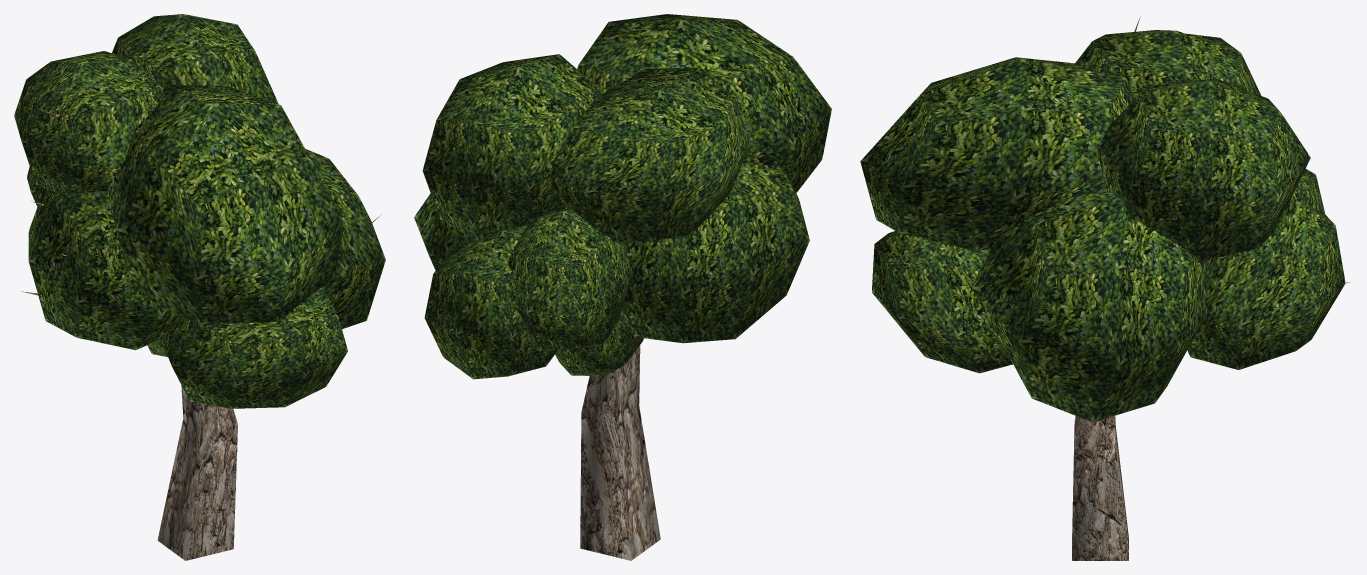
Rendered from Low-poly-tree-4(1).glb.
3 renders of one model, left to right at view 1: azimuth 30°, elevation 25°; view 2: azimuth 150°, elevation 25°; view 3: azimuth 270°, elevation 25°, orthographic. The views are drawn at different scales.
Visible parts, largest first — view 1: Tree.001; view 2: Tree.001; view 3: Tree.001.
Part boxes in pixels (x1,y1,x2,y2): Tree.001: (14,14,385,560); Tree.001: (414,14,831,560); Tree.001: (860,16,1349,560).
Bounding box in the file's own units: 9.67 × 13.27 × 12.13.
1 material, 1 textured.
